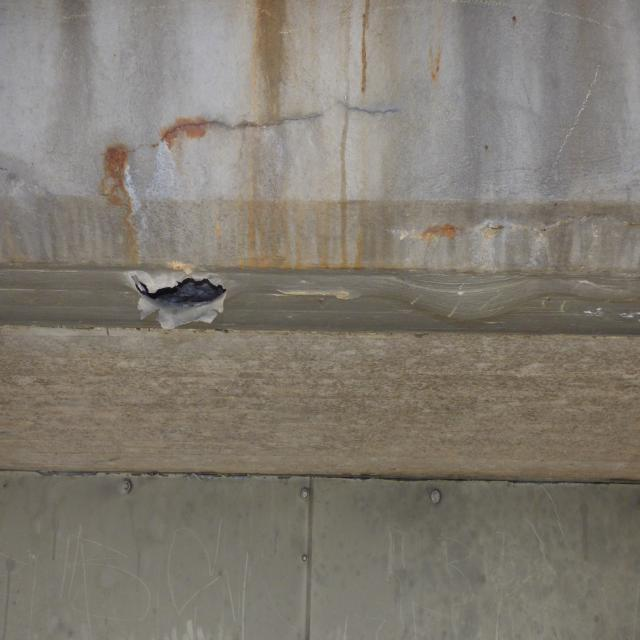corrosion: (88, 3, 497, 273)
